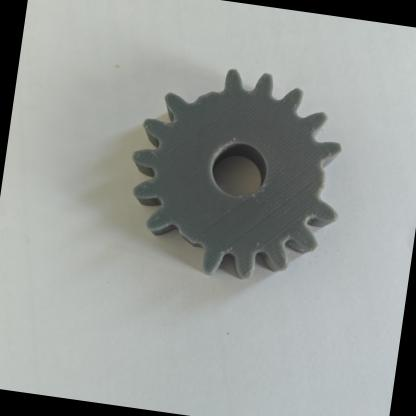defect: (294, 142, 373, 224), (150, 57, 232, 136), (145, 218, 216, 272)
gear: (89, 34, 387, 313)
